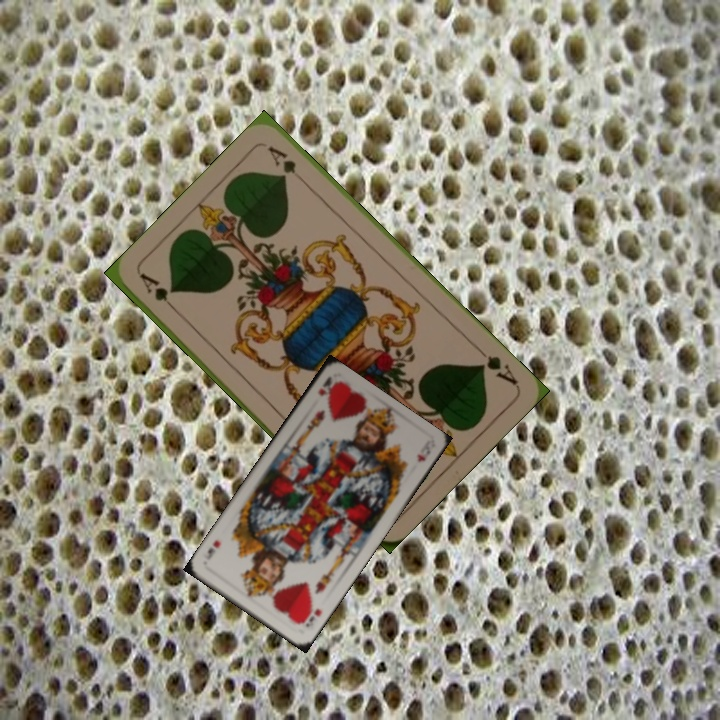GA: (472, 342, 520, 388), (136, 269, 182, 317)
HK: (297, 600, 324, 629), (314, 373, 339, 399)
